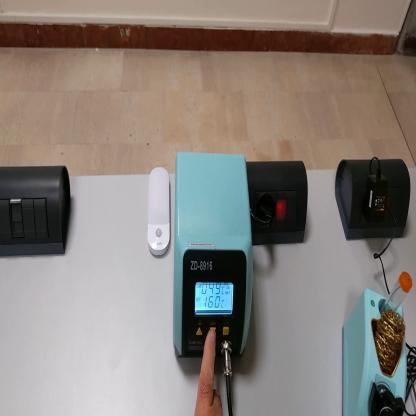hand: (194, 330, 223, 416)
socket: (337, 151, 412, 244), (247, 157, 310, 250)
welder base: (339, 268, 413, 415)
welder probe tip: (382, 405, 395, 415)
welder station: (173, 151, 255, 359)
